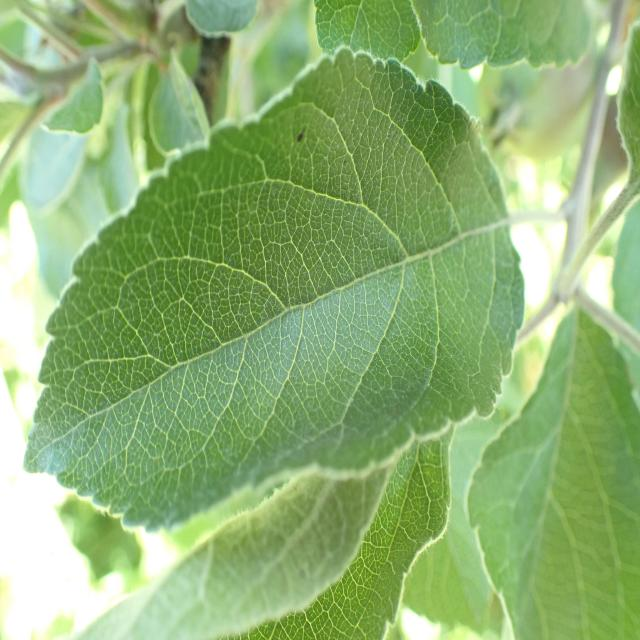healthy: (22, 48, 524, 533), (70, 430, 455, 640), (466, 299, 640, 640), (225, 429, 454, 640)
